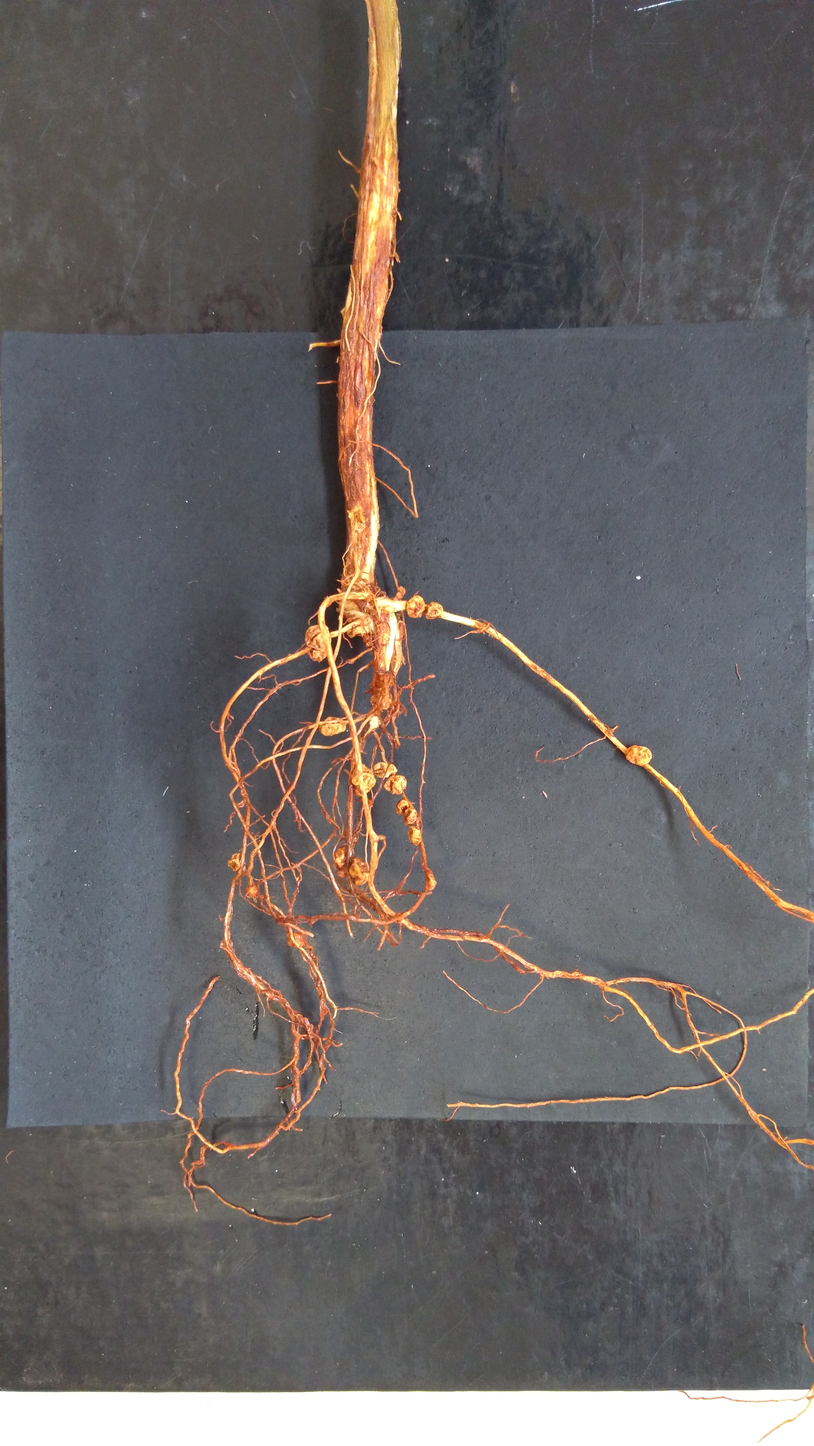nodule: (350, 762, 376, 799), (304, 625, 330, 662), (347, 854, 372, 889), (624, 742, 653, 767), (318, 716, 348, 737), (284, 929, 309, 951), (405, 594, 426, 620), (382, 774, 408, 795), (368, 690, 393, 711), (371, 760, 398, 779), (336, 600, 360, 620), (423, 601, 444, 622), (406, 825, 424, 846), (226, 851, 242, 873), (243, 884, 262, 902), (333, 844, 346, 870), (403, 808, 419, 826), (394, 798, 410, 815), (347, 625, 368, 637), (427, 873, 438, 890)
